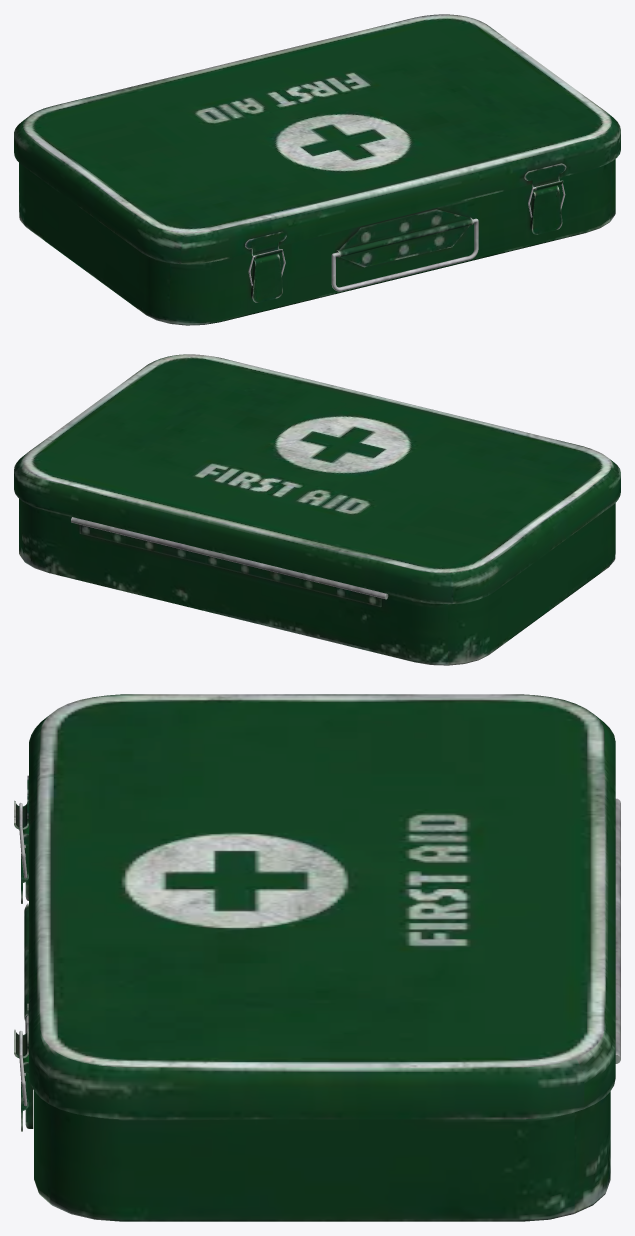
Rendered from medical_box.glb.
3 views of the same model, one above another, from view 1: azimuth 30°, elevation 25°; view 2: azimuth 150°, elevation 25°; view 3: azimuth 270°, elevation 25° (orthographic). The views are drawn at different scales.
Parts seen in each view (by area): view 1: medical_box_lid, medical_box, medical_box_latch, medical_box_handle; view 2: medical_box_lid, medical_box; view 3: medical_box_lid, medical_box.
Boxes of the visible parts, x1,y1,x2,y2 form: medical_box_lid: (14, 14, 620, 264); medical_box: (19, 159, 615, 325); medical_box_latch: (251, 185, 562, 302); medical_box_handle: (331, 218, 478, 291); medical_box_lid: (14, 354, 620, 603); medical_box: (19, 499, 615, 665); medical_box_lid: (14, 694, 615, 1119); medical_box: (24, 798, 620, 1221).
Size of the model in its own units: 0.5255 by 0.0975 by 0.3502.
Materials: 1 (1 with a texture image).
